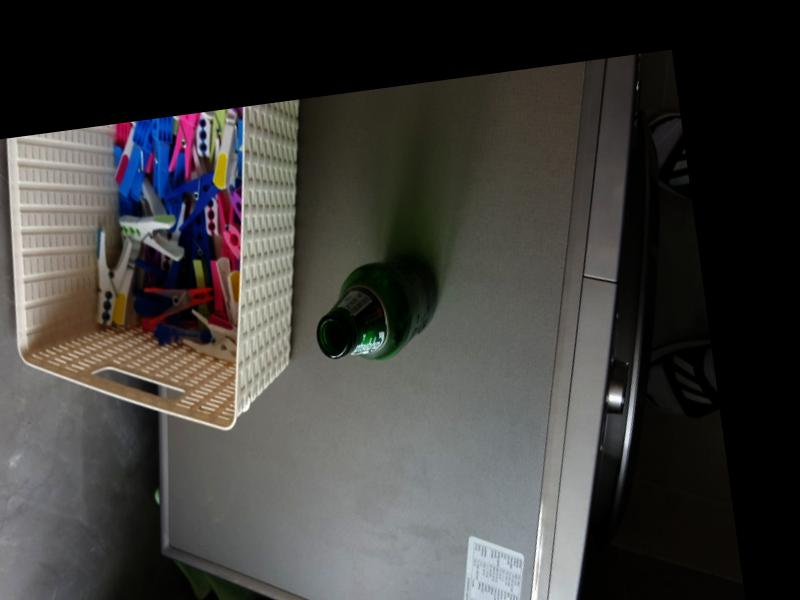Beer: (309, 252, 446, 361)
